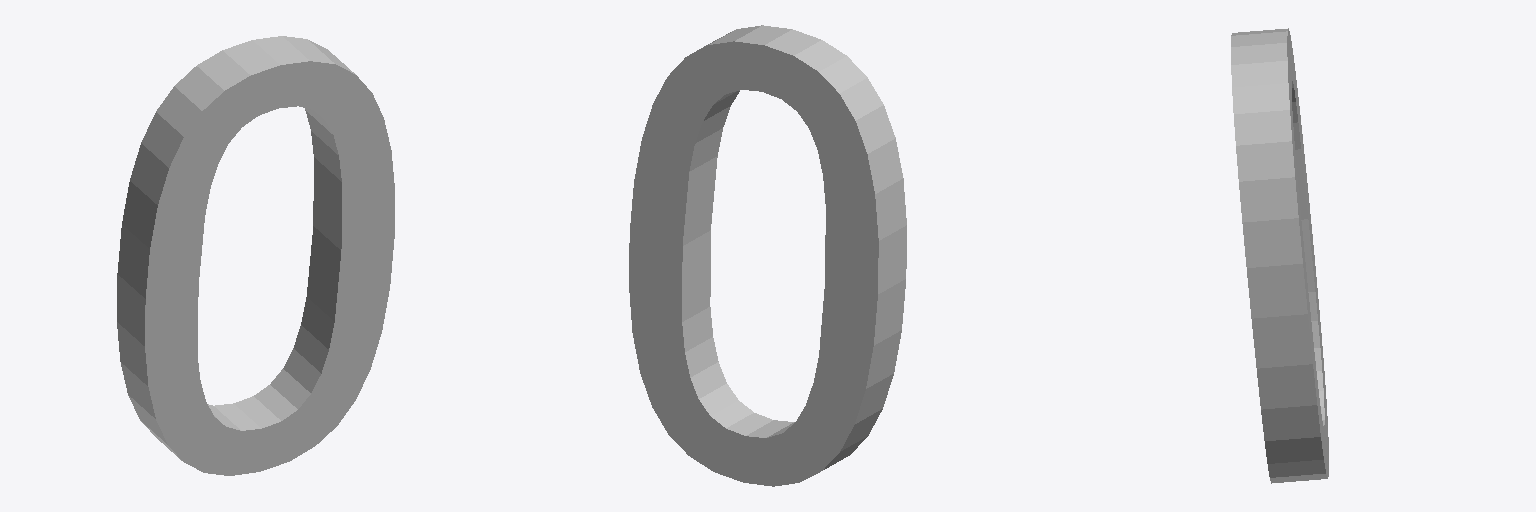
File: original-3.obj
The picture shows the model from 3 angles: view 1: azimuth 30°, elevation 25°; view 2: azimuth 150°, elevation 25°; view 3: azimuth 270°, elevation 25°; orthographic projection.
Visible parts, largest first — view 1: _0_1/_0/mesh9/mesh9-geometry#mesh9-geometry; view 2: _0_1/_0/mesh9/mesh9-geometry#mesh9-geometry; view 3: _0_1/_0/mesh9/mesh9-geometry#mesh9-geometry.
Boxes of the visible parts, <box> form: _0_1/_0/mesh9/mesh9-geometry#mesh9-geometry: <box>117,36,394,475</box>; _0_1/_0/mesh9/mesh9-geometry#mesh9-geometry: <box>629,25,906,486</box>; _0_1/_0/mesh9/mesh9-geometry#mesh9-geometry: <box>1231,28,1328,483</box>.
Bounding box in the file's own units: 0.1296 × 0.2124 × 0.0444.